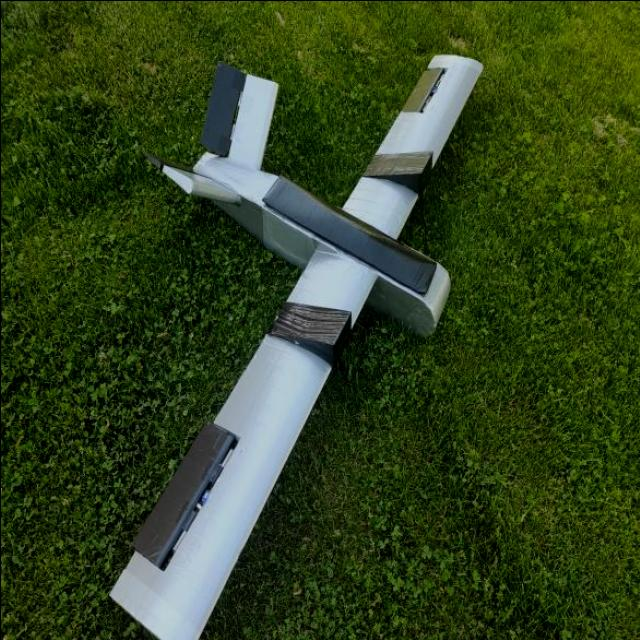plane: (106, 50, 483, 640)
